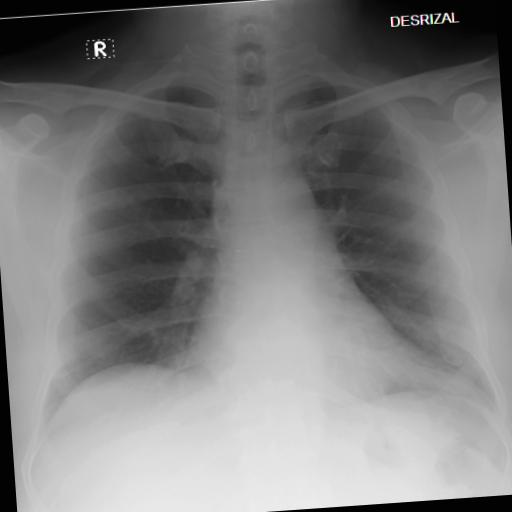normal: (7, 27, 512, 452)
